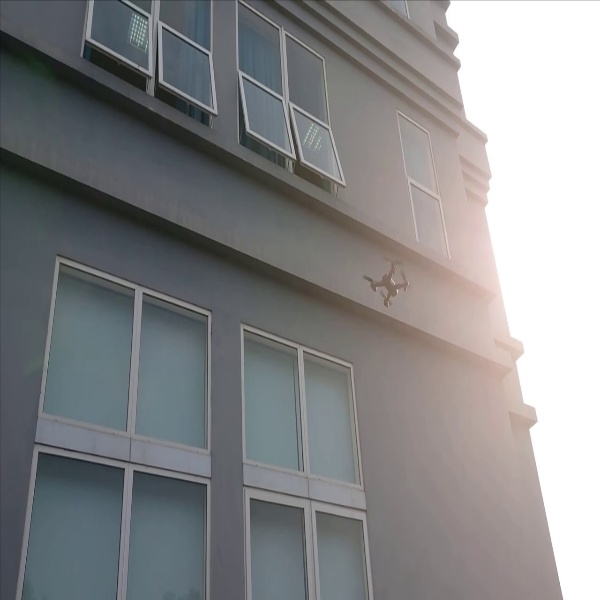drone: (361, 255, 418, 310)
